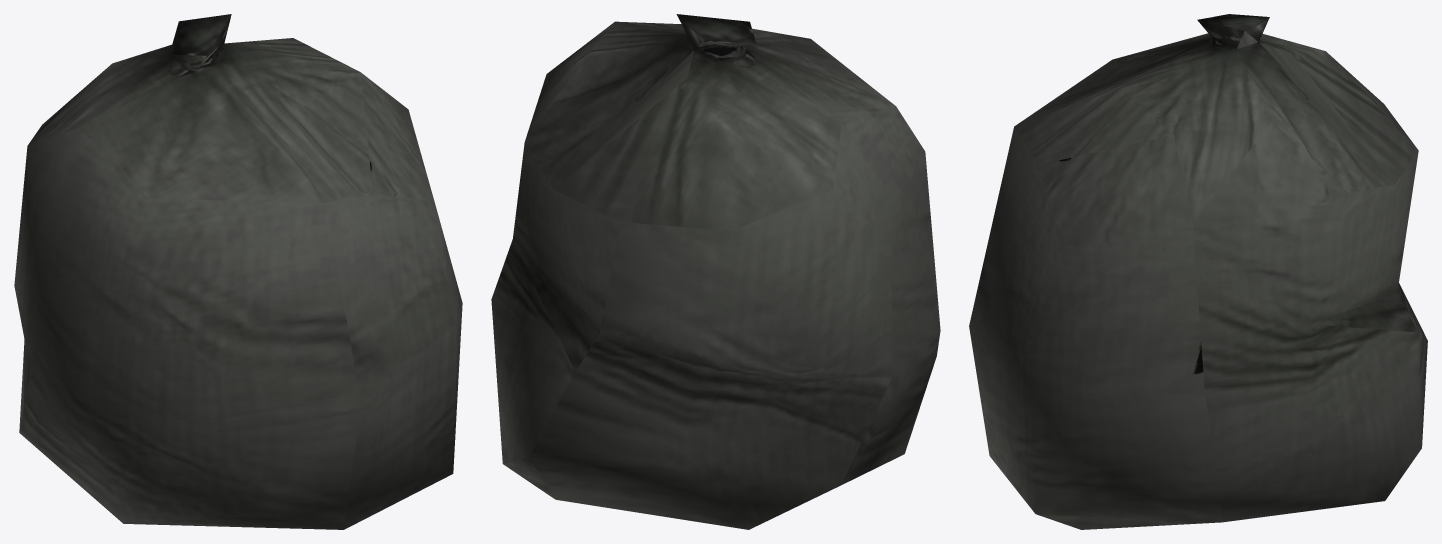
Rendered from SM_Trashbag_01.fbx.
The picture shows the model from 3 angles, left to right: view 1: azimuth 30°, elevation 25°; view 2: azimuth 150°, elevation 25°; view 3: azimuth 270°, elevation 25°; orthographic projection. The views are drawn at different scales.
Visible parts, largest first — view 1: SM_Trashbag_01; view 2: SM_Trashbag_01; view 3: SM_Trashbag_01.
Boxes of the visible parts, bbox=[...] form: SM_Trashbag_01: bbox=[14, 14, 462, 529]; SM_Trashbag_01: bbox=[491, 14, 940, 529]; SM_Trashbag_01: bbox=[969, 14, 1427, 529].
Bounding box in the file's own units: 61.12 × 66.6 × 62.66.
